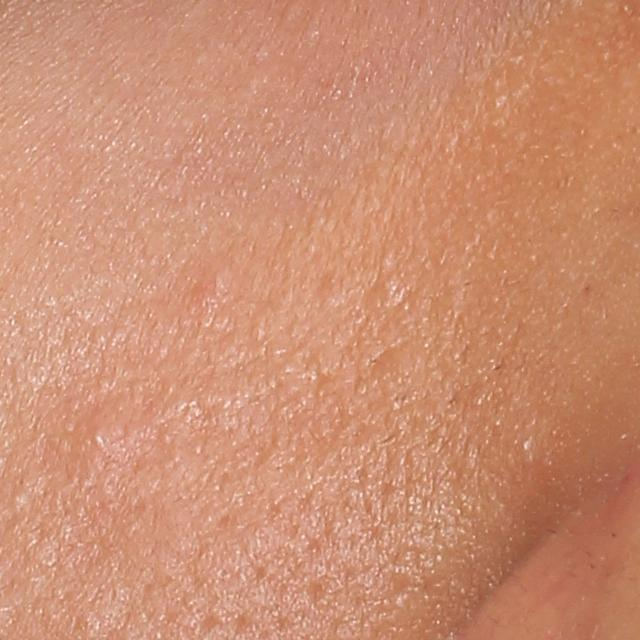comedo: (88, 422, 114, 448), (8, 489, 27, 509)
